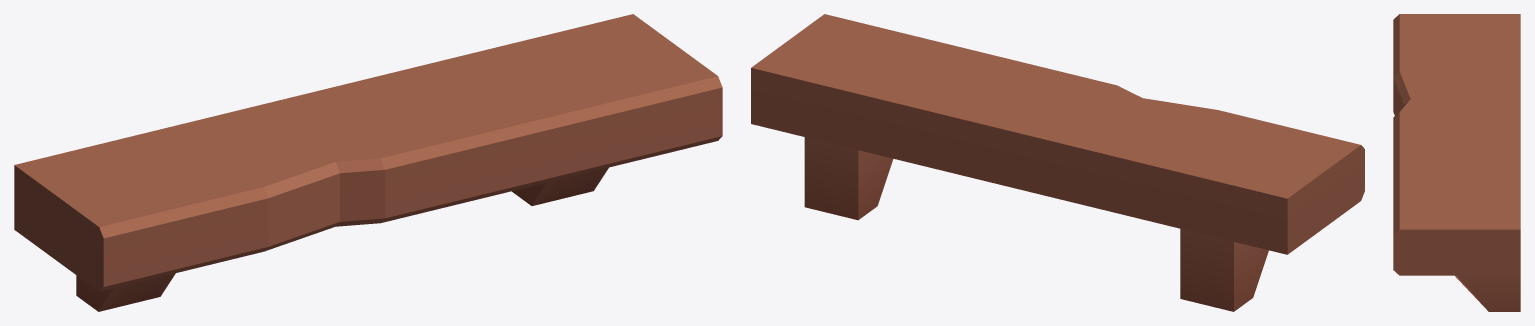
File: shelf_large.glb
3 renders of one model, left to right at view 1: azimuth 30°, elevation 25°; view 2: azimuth 150°, elevation 25°; view 3: azimuth 270°, elevation 25°, orthographic. The views are drawn at different scales.
Parts seen in each view (by area): view 1: shelf_large; view 2: shelf_large; view 3: shelf_large.
Boxes of the visible parts, x1=… form: shelf_large: x1=14, y1=14, x2=722, y2=311; shelf_large: x1=751, y1=14, x2=1364, y2=311; shelf_large: x1=1393, y1=14, x2=1520, y2=311.
Bounding box in the file's own units: 2 × 0.45 × 0.5.
Materials: 1 (1 with a texture image).
